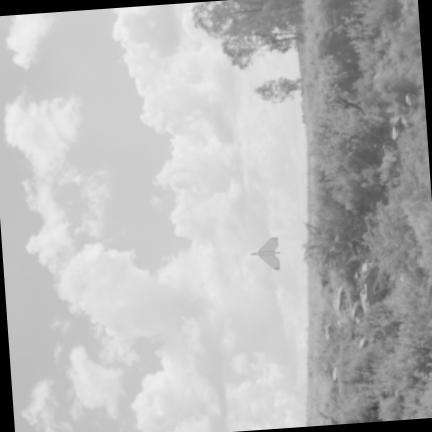Shahed: (250, 236, 279, 268)
